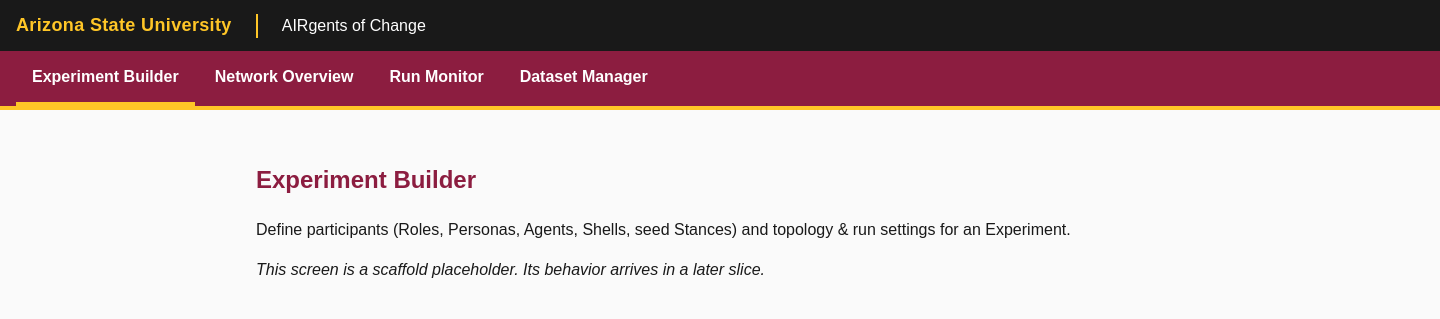
App shell › navigates to another screen when its nav link is activated
What coordinates should you click on to do the following:
click the link "Run Monitor"
I would click on:
 (436, 76)
Its box is left=389, top=68, right=484, bottom=85.
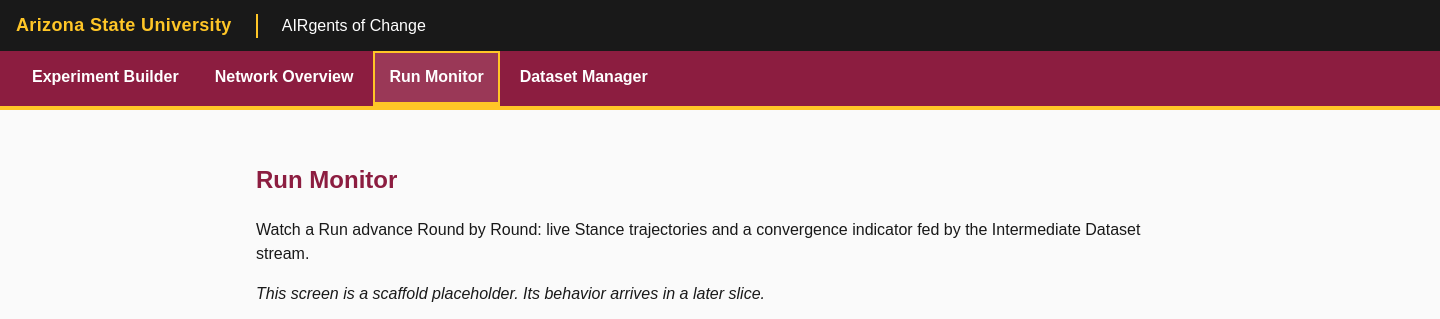
Now the heading "Run Monitor" is shown, box left=256, top=166, right=397, bottom=193
